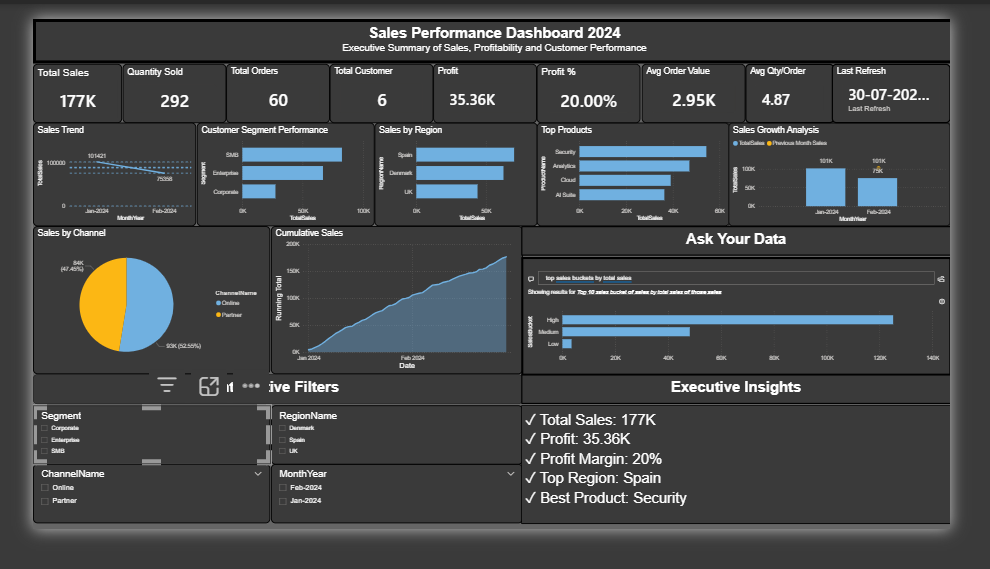

Layout of this report page (visuals, bound fields, positions):
{"tool":"powerbi","page":{"name":"Page 1","canvas":[1980,1100],"ordinal":0},"visuals":[{"type":"cardVisual","title":"Total Sales","fields":{"Data":["Categories.TotalSales"]},"box":[0,96,192,128],"z":0},{"type":"cardVisual","title":"Quantity Sold","fields":{"Data":["Categories.Total Quantity"]},"box":[192,96,224,128],"z":1000},{"type":"cardVisual","title":"Total Orders","fields":{"Data":["Categories.TotalOrders"]},"box":[416,96,224,128],"z":2000},{"type":"cardVisual","title":"Avg Order Value","fields":{"Data":["Categories.Average Order Value"]},"box":[1312,96,224,128],"z":3000},{"type":"lineChart","title":"Sales Trend","fields":{"Y":["Categories.TotalSales"],"Category":["Dim_Date.MonthYear"]},"box":[0,224,352,224],"z":4000},{"type":"clusteredBarChart","title":"Customer Segment Performance","fields":{"Category":["Customers.Segment"],"Y":["Categories.TotalSales"]},"box":[352,224,384,224],"z":5000},{"type":"clusteredBarChart","title":"Sales by Region","fields":{"Category":["Regions.RegionName"],"Y":["Categories.TotalSales"]},"box":[736,224,352,224],"z":6000},{"type":"barChart","title":"Top Products","fields":{"Category":["Products.ProductName"],"Y":["Categories.TotalSales"]},"box":[1088,224,416,224],"z":7000},{"type":"pieChart","title":"Sales by Channel","fields":{"Category":["Channels.ChannelName"],"Y":["Categories.TotalSales"]},"box":[0,448,512,320],"z":8000},{"type":"lineClusteredColumnComboChart","title":"Sales Growth Analysis","fields":{"Category":["Dim_Date.MonthYear"],"Y":["Categories.TotalSales"],"Y2":["Categories.Previous Month Sales"]},"box":[1500,224,480,224],"z":9000},{"type":"areaChart","title":"Cumulative Sales","fields":{"Category":["Dim_Date.Date"],"Y":["Categories.Running Total"]},"box":[512,448,544,320],"z":10000},{"type":"textbox","box":[0,0,1992,96],"z":11000},{"type":"slicer","fields":{"Values":["Dim_Date.MonthYear"]},"box":[512,960,544,128],"z":12000},{"type":"slicer","fields":{"Values":["Regions.RegionName"]},"box":[512,832,544,128],"z":13000},{"type":"slicer","fields":{"Values":["Customers.Segment"]},"box":[0,832,512,128],"z":14000},{"type":"slicer","fields":{"Values":["Channels.ChannelName"]},"box":[0,960,512,128],"z":15000},{"type":"cardVisual","title":"Total Customer","fields":{"Data":["Categories.Total Customers"]},"box":[640,96,224,128],"z":16000},{"type":"cardVisual","title":"Profit %   ","fields":{"Data":["Categories.Profit %"]},"box":[1088,96,224,128],"z":17000},{"type":"cardVisual","title":"Profit","fields":{"Data":["Categories.Profit"]},"box":[864,96,224,128],"z":18000},{"type":"textbox","box":[0,768,1056,64],"z":19000},{"type":"cardVisual","title":"Avg Qty/Order","fields":{"Data":["Categories.Average Quantity Per Order"]},"box":[1536,96,192,128],"z":20000},{"type":"qnaVisual","box":[1052,512,928,256],"z":21000},{"type":"textbox","box":[1052,832,928,256],"z":22000},{"type":"textbox","box":[1052,768,928,64],"z":23000},{"type":"cardVisual","title":"Last Refresh","fields":{"Data":["Categories.Last Refresh"]},"box":[1724,96,256,128],"z":24000},{"type":"textbox","box":[1052,448,928,64],"z":25000}]}

Visuals, with their boxes on the page's 1980x1100 design canvas (x1, y1, x2, y2). These are canvas units, not pixel positions in the 990x569 screenshot, which may show the page scaled, cropped or inside an application window:
"Total Sales" cardVisual: left=0, top=96, right=192, bottom=224
"Quantity Sold" cardVisual: left=192, top=96, right=416, bottom=224
"Total Orders" cardVisual: left=416, top=96, right=640, bottom=224
"Avg Order Value" cardVisual: left=1312, top=96, right=1536, bottom=224
"Sales Trend" lineChart: left=0, top=224, right=352, bottom=448
"Customer Segment Performance" clusteredBarChart: left=352, top=224, right=736, bottom=448
"Sales by Region" clusteredBarChart: left=736, top=224, right=1088, bottom=448
"Top Products" barChart: left=1088, top=224, right=1504, bottom=448
"Sales by Channel" pieChart: left=0, top=448, right=512, bottom=768
"Sales Growth Analysis" lineClusteredColumnComboChart: left=1500, top=224, right=1980, bottom=448
"Cumulative Sales" areaChart: left=512, top=448, right=1056, bottom=768
textbox: left=0, top=0, right=1992, bottom=96
slicer - Dim_Date.MonthYear: left=512, top=960, right=1056, bottom=1088
slicer - Regions.RegionName: left=512, top=832, right=1056, bottom=960
slicer - Customers.Segment: left=0, top=832, right=512, bottom=960
slicer - Channels.ChannelName: left=0, top=960, right=512, bottom=1088
"Total Customer" cardVisual: left=640, top=96, right=864, bottom=224
"Profit %   " cardVisual: left=1088, top=96, right=1312, bottom=224
"Profit" cardVisual: left=864, top=96, right=1088, bottom=224
textbox: left=0, top=768, right=1056, bottom=832
"Avg Qty/Order" cardVisual: left=1536, top=96, right=1728, bottom=224
qnaVisual: left=1052, top=512, right=1980, bottom=768
textbox: left=1052, top=832, right=1980, bottom=1088
textbox: left=1052, top=768, right=1980, bottom=832
"Last Refresh" cardVisual: left=1724, top=96, right=1980, bottom=224
textbox: left=1052, top=448, right=1980, bottom=512
